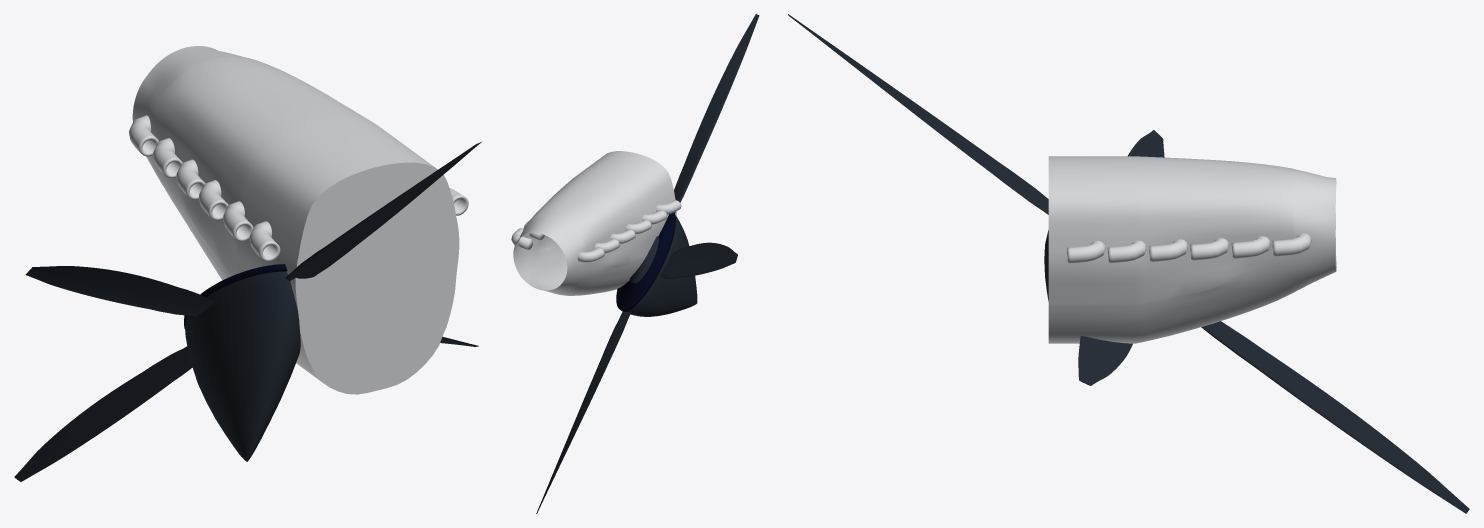
File: reto_engine.glb
3 views of the same model, side by side, from view 1: azimuth 30°, elevation 25°; view 2: azimuth 150°, elevation 25°; view 3: azimuth 270°, elevation 25° (orthographic). The views are drawn at different scales.
Visible parts, largest first — view 1: Rumpf, Prop; view 2: Rumpf, Prop; view 3: Rumpf, Prop.
Part boxes in pixels (bbox=[...]): Rumpf: bbox=[129, 46, 468, 394]; Prop: bbox=[14, 142, 481, 481]; Rumpf: bbox=[511, 151, 681, 295]; Prop: bbox=[536, 14, 759, 513]; Rumpf: bbox=[1048, 156, 1336, 343]; Prop: bbox=[788, 14, 1469, 513].
Bounding box in the file's own units: 2.28 × 3.64 × 4.48.
